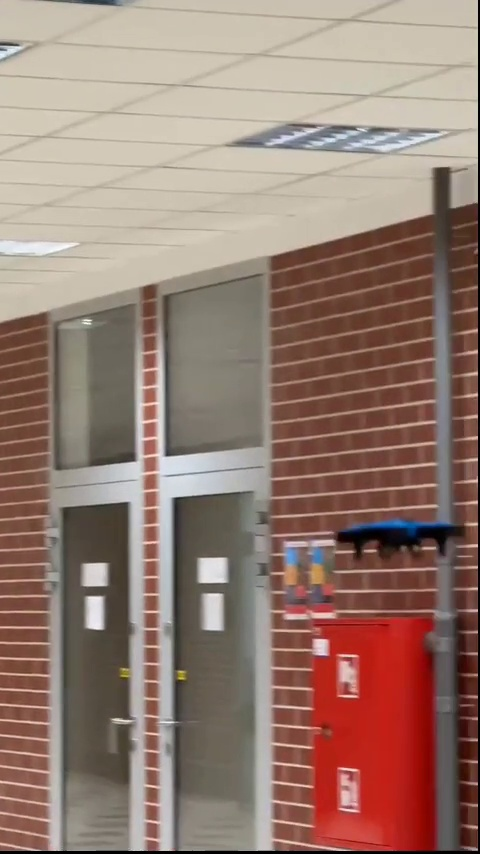drone: (340, 515, 472, 560)
